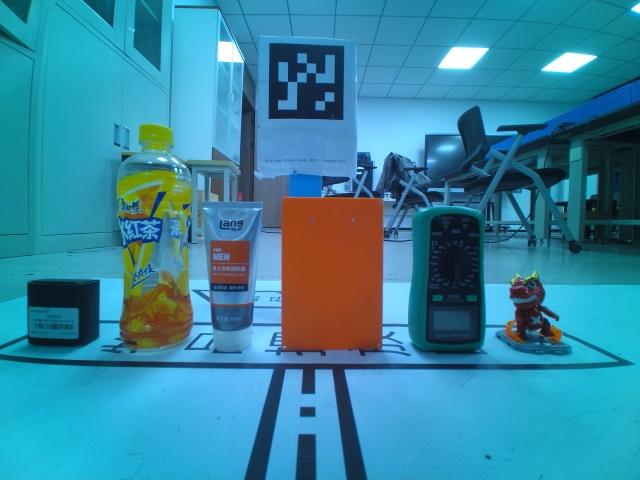banzi: (26, 277, 100, 347)
binghongcha: (495, 270, 574, 355)
dabao: (198, 200, 264, 352)
dianbiao: (114, 123, 195, 355)
hezi: (407, 206, 485, 354)
long: (280, 197, 382, 352)
